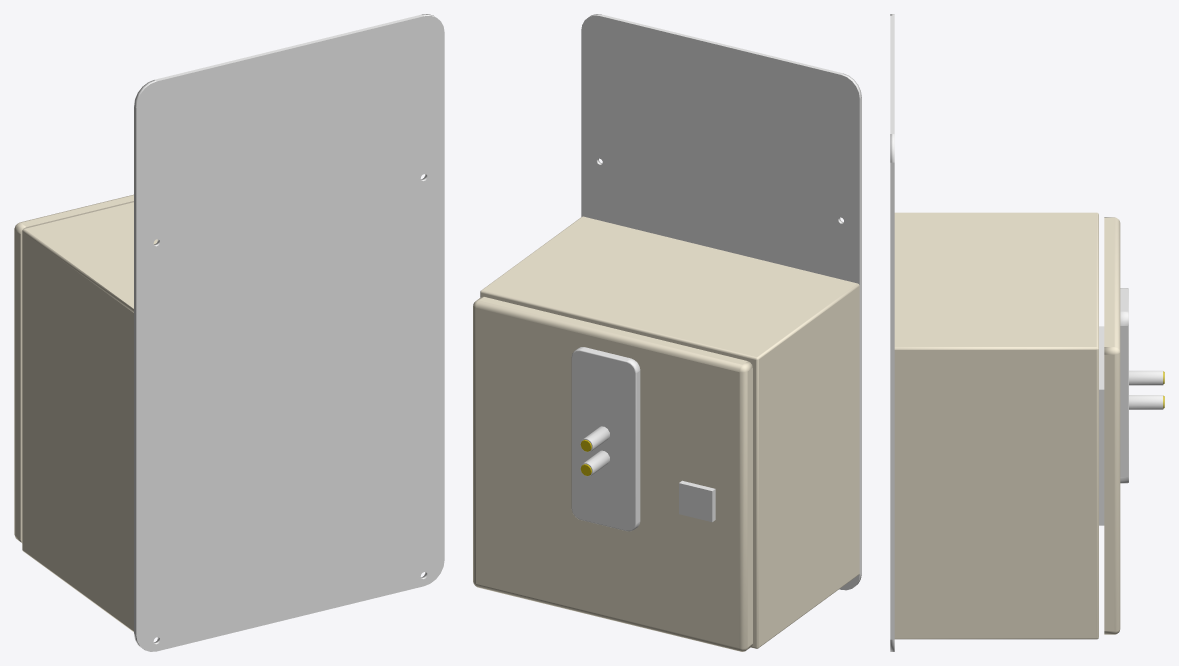
The model's file is d1_back1.dae.
3 renders of one model, left to right at view 1: azimuth 30°, elevation 25°; view 2: azimuth 150°, elevation 25°; view 3: azimuth 270°, elevation 25°, orthographic. The views are drawn at different scales.
Visible parts, largest first — view 1: Volumenkörper1_001; view 2: Volumenkörper1_001; view 3: Volumenkörper1_001.
Boxes of the visible parts, <box> form: Volumenkörper1_001: <box>14,14,444,651</box>; Volumenkörper1_001: <box>473,14,861,651</box>; Volumenkörper1_001: <box>890,14,1164,651</box>.
Bounding box in the file's own units: 300 × 255 × 530.
